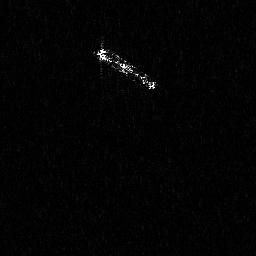ship: (91, 36, 160, 90)
